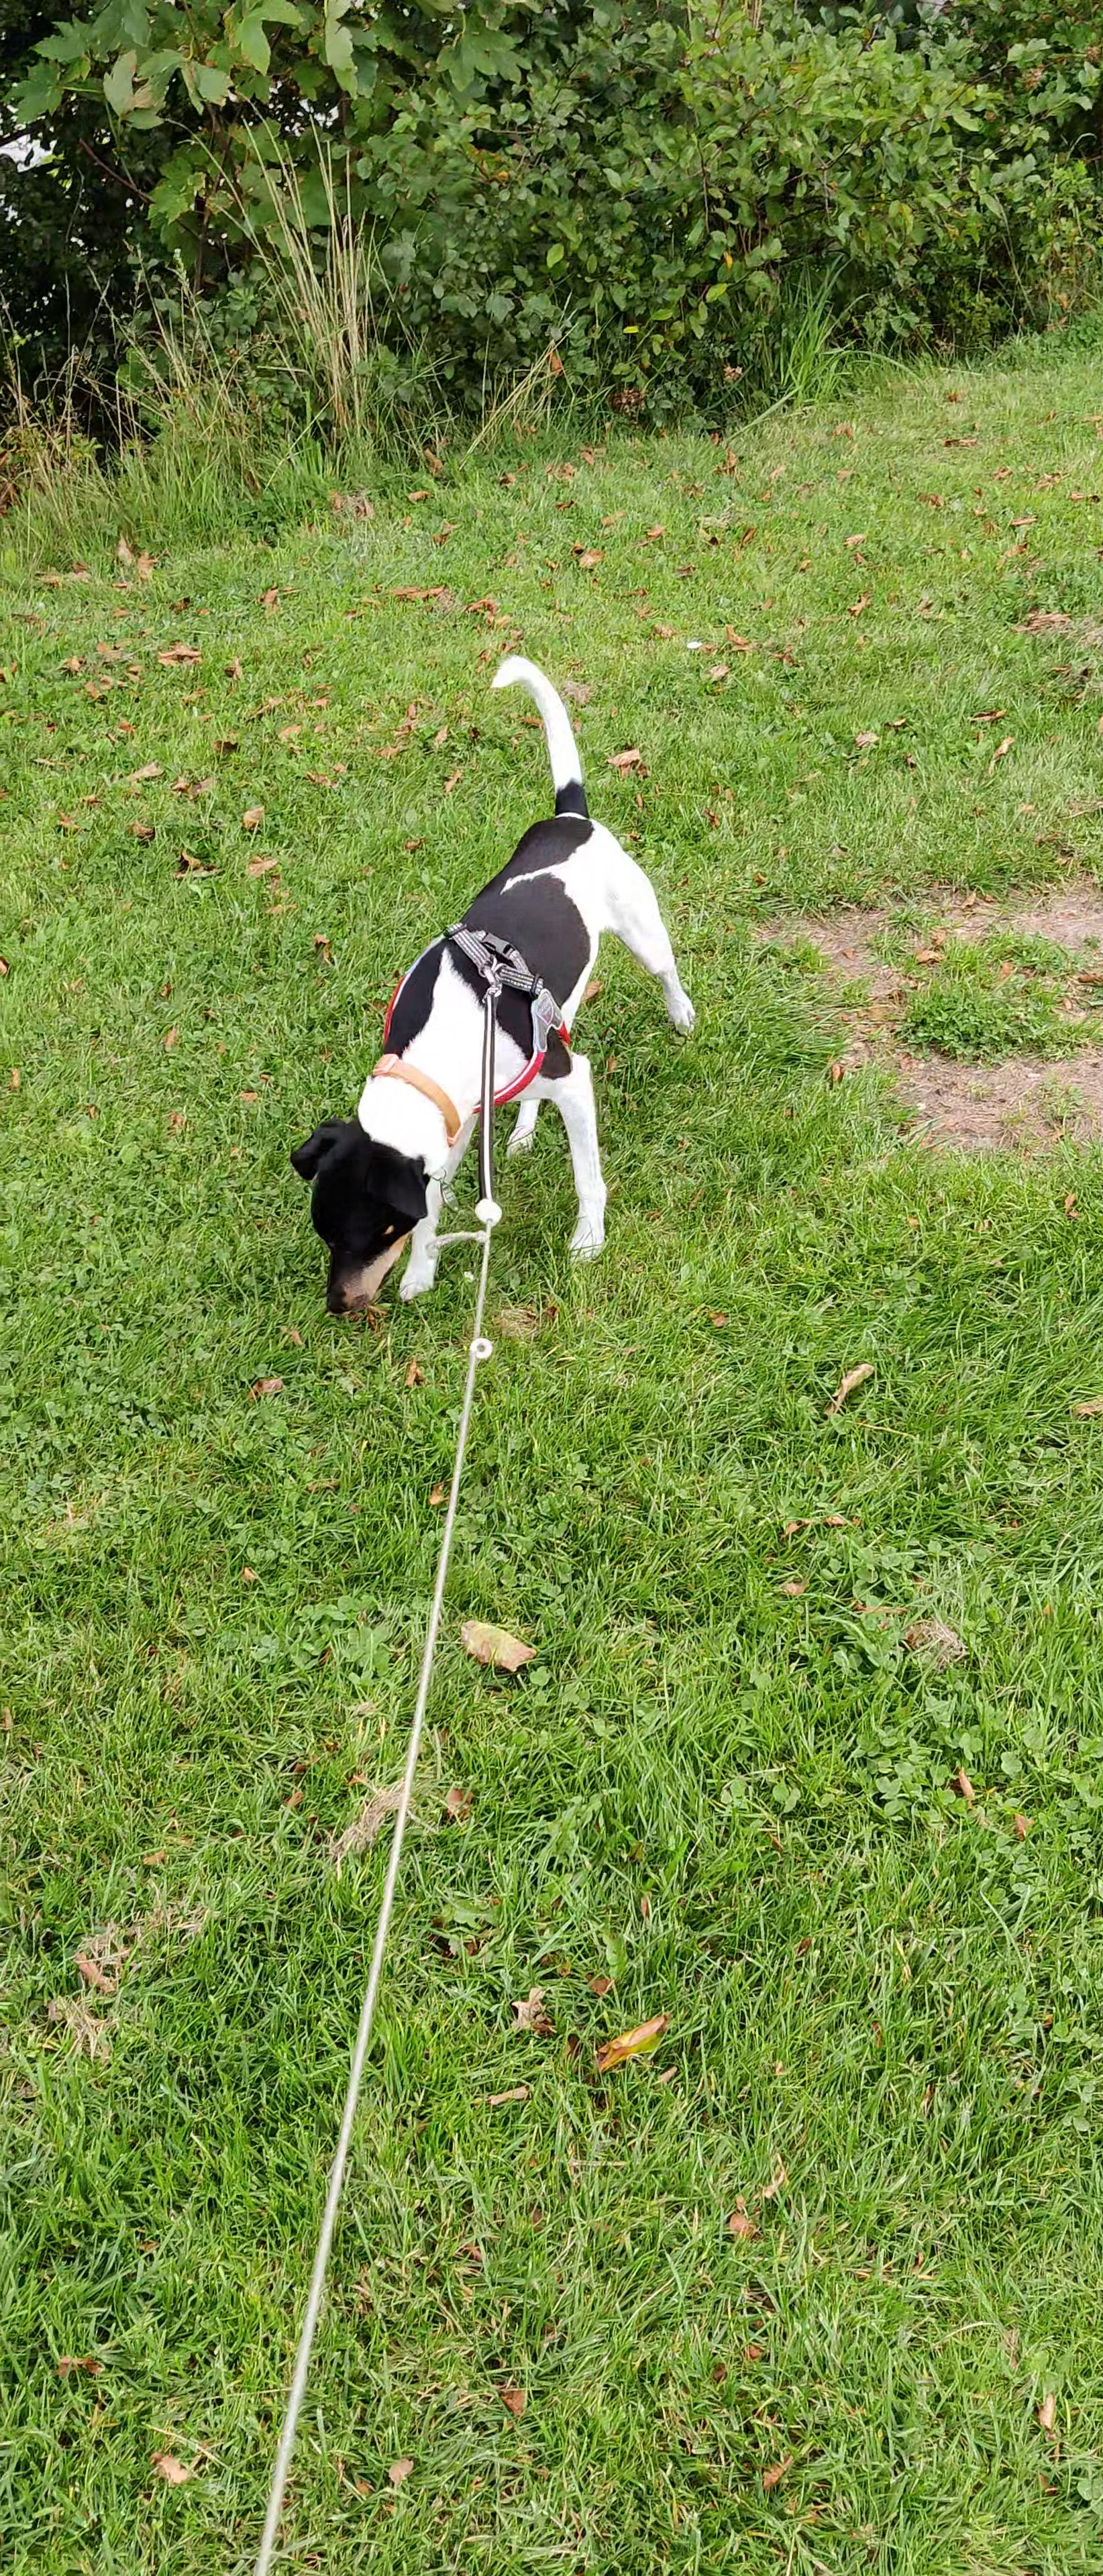Dog: (281, 649, 702, 1336)
